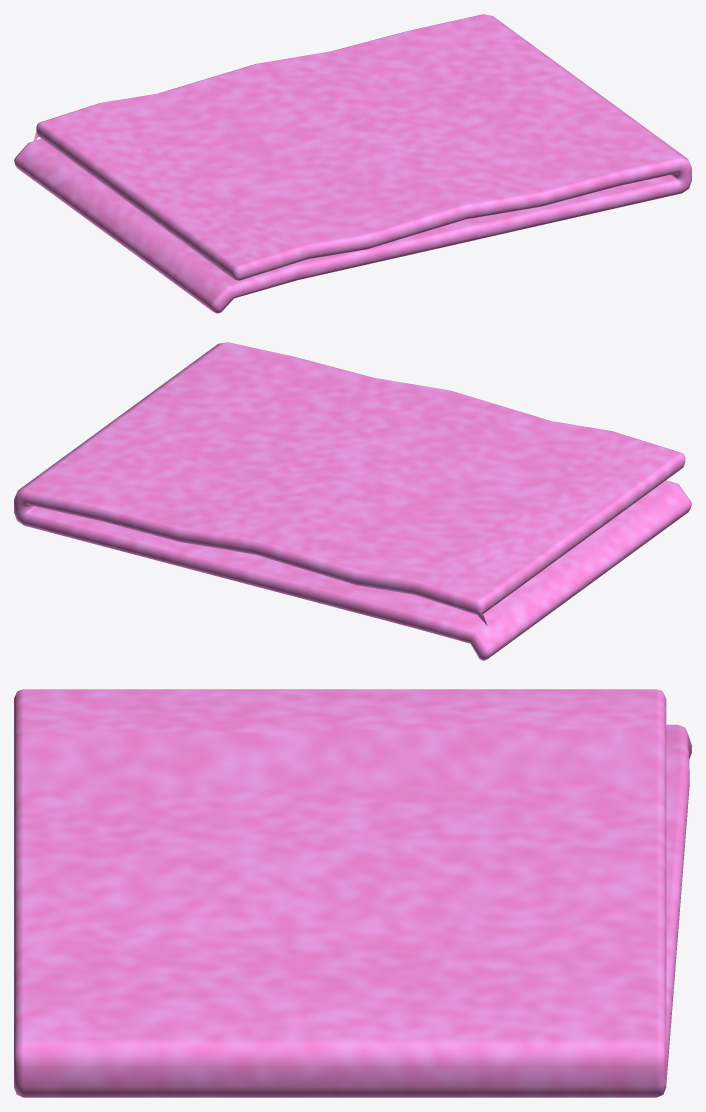
The model's file is towel.fbx.
3 renders of one model, top to bottom at view 1: azimuth 30°, elevation 25°; view 2: azimuth 150°, elevation 25°; view 3: azimuth 270°, elevation 25°, orthographic. The views are drawn at different scales.
Visible parts, largest first — view 1: towel; view 2: towel; view 3: towel.
Boxes of the visible parts, x1,y1,x2,y2 form: towel: (14, 14, 691, 313); towel: (14, 342, 691, 660); towel: (14, 689, 691, 1097).
Size of the model in its own units: 1.36 by 0.154 by 1.04.
1 material, 1 textured.
